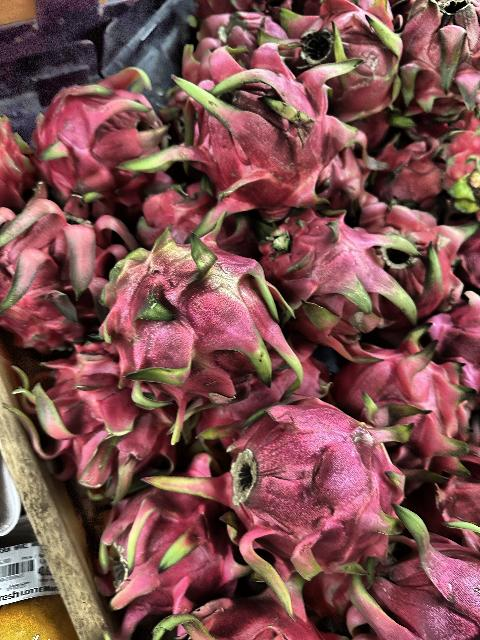buah-naga-belum-matang: (92, 232, 298, 413)
buah-naga-matang: (183, 392, 409, 576), (179, 58, 373, 224), (29, 344, 186, 496), (255, 208, 408, 362), (94, 485, 250, 633), (324, 341, 480, 471), (23, 73, 166, 209), (0, 190, 110, 350), (269, 0, 407, 118), (344, 536, 480, 640), (362, 204, 480, 306), (394, 0, 480, 111), (138, 190, 208, 247)
